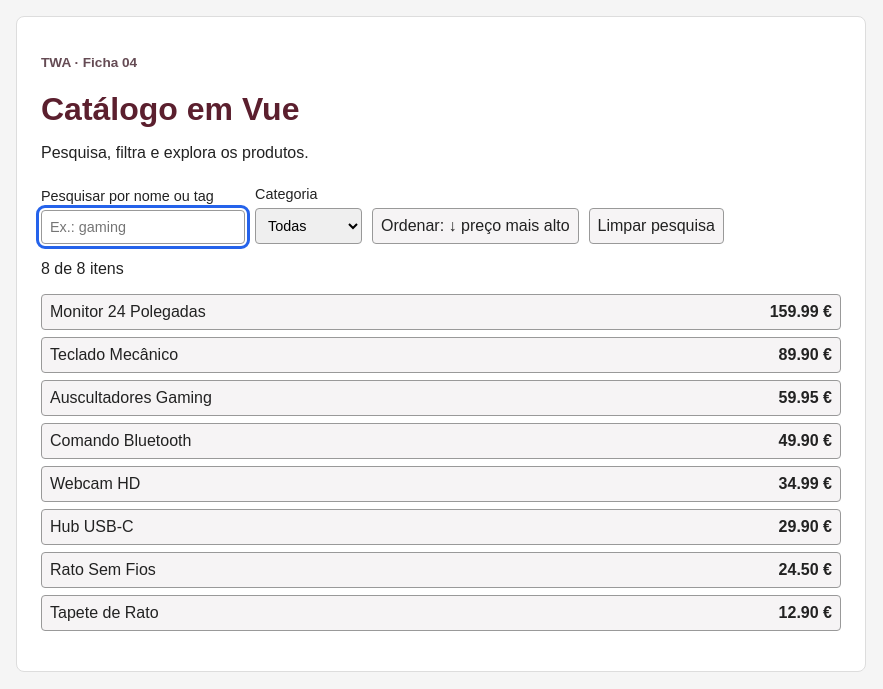
Catálogo em Vue › combina pesquisa e categoria, mantém foco e limpa a pesquisa
Type "GAMING" into the search field labelled "Pesquisar por nome ou tag". click: (143, 227)
box: [41,210,245,244]
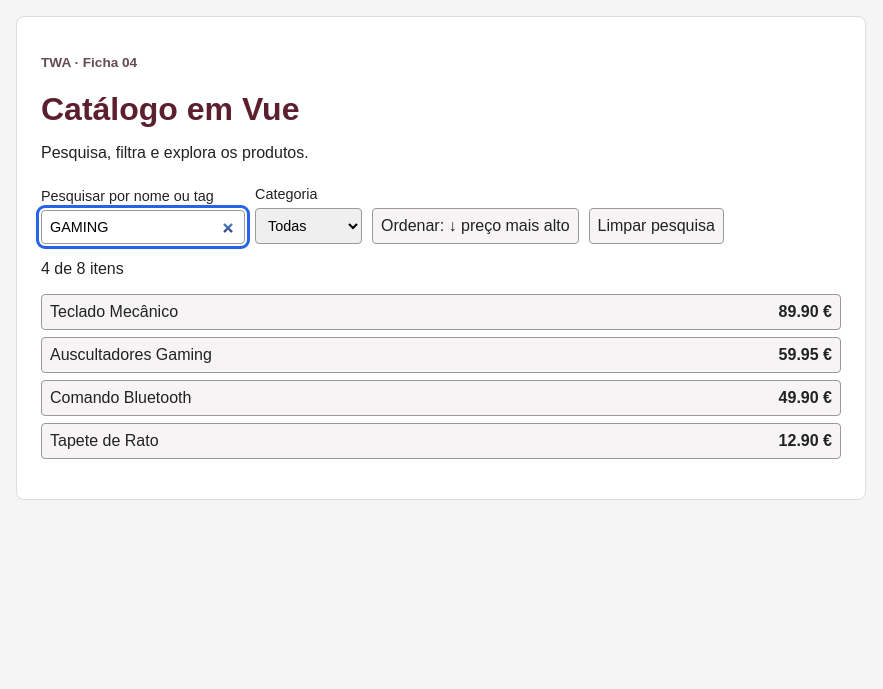
Now the number of list items is 4, box [41,294,841,330]; [41,337,841,373]; [41,380,841,416]; [41,423,841,459]
Select "gaming" in the dropdown with id "category". click: (308, 226)
box: [255,208,362,244]
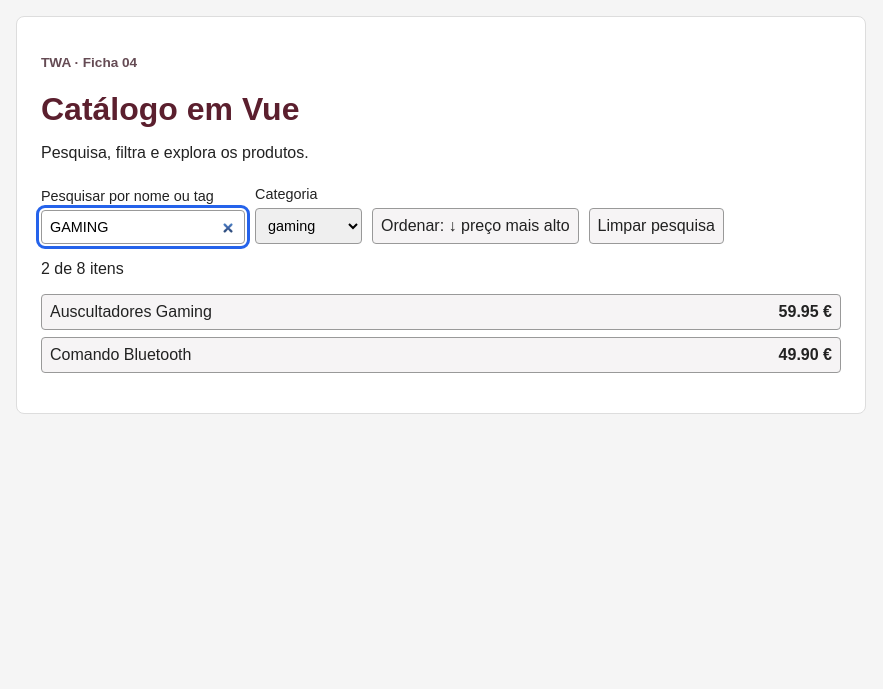
Now the number of list items is 2, box [41,294,841,330]; [41,337,841,373]
Now the text "2 de 8 itens" is shown, box [41,260,124,277]
Replace the text in the search field labelled "Pesquisar por nome ou tag" with "inexistente". click: (143, 227)
box: [41,210,245,244]
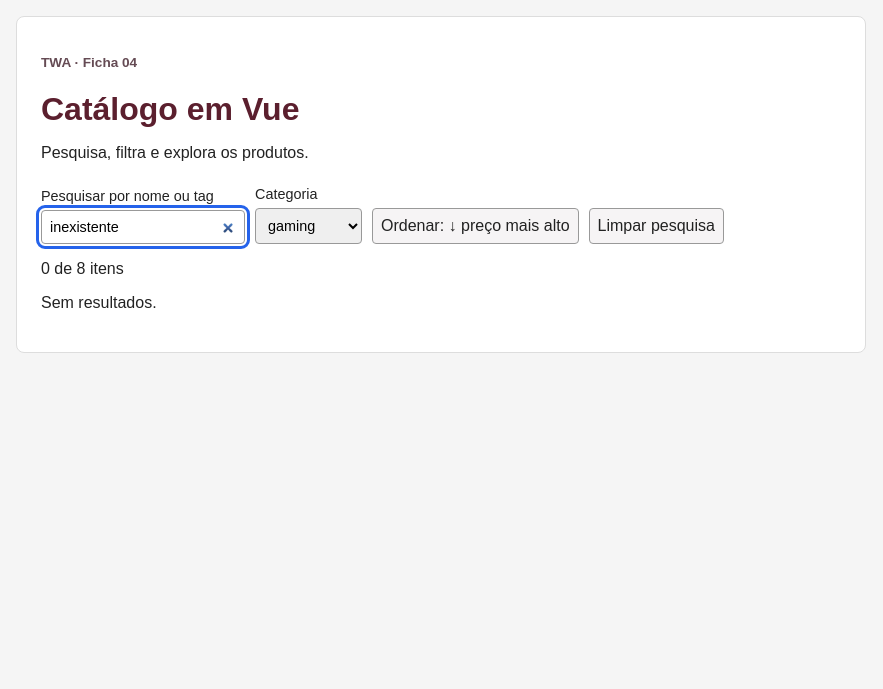
Now the text "Sem resultados." is shown, box [41,294,157,311]
Click the button "Limpar pesquisa". click: (656, 226)
box: [588,208,724,244]
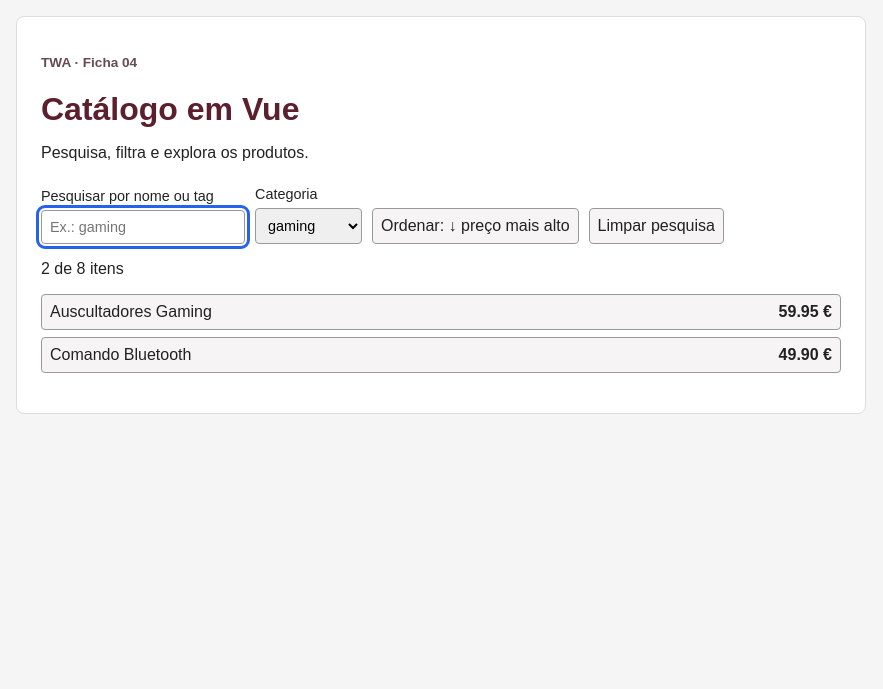
Now the search field labelled "Pesquisar por nome ou tag" is empty, box [41,210,245,244]
Now the number of list items is 2, box [41,294,841,330]; [41,337,841,373]
